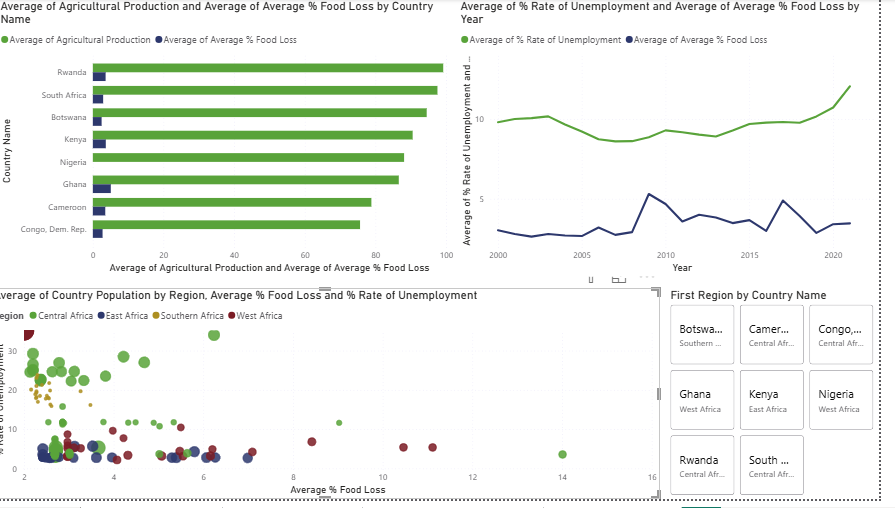

The page's visual inventory and layout, read from the dashboard file:
{"tool":"powerbi","page":{"name":"Employment Opportunity","canvas":[1280,720],"ordinal":2},"visuals":[{"type":"scatterChart","fields":{"Series":["Fact Table.Region"],"Size":["Avg(Fact Table.Country Population)"],"X":["Fact Table.Average % Food Loss"],"Y":["Fact Table.% Rate of Unemployment"]},"box":[0,437.7,963.5,282.3],"z":0},{"type":"clusteredBarChart","fields":{"Category":["Fact Table.Country Name"],"Y":["Avg(Fact Table.Agricultural Production)","Avg(Fact Table.Average % Food Loss)"]},"box":[10.5,62.7,661.7,374.9],"z":1000},{"type":"lineChart","fields":{"Category":["Fact Table.Year"],"Y":["Avg(Fact Table.% Rate of Unemployment)","Avg(Fact Table.Average % Food Loss)"]},"box":[672.2,62.7,608,374.9],"z":2000},{"type":"advancedSlicerVisual","fields":{"Label":["Min(Fact Table.Region)"],"Values":["Fact Table.Country Name"]},"box":[975.4,437.7,288.3,282.3],"z":3000},{"type":"textbox","box":[100.1,0,1020.2,62.7],"z":3001}]}

Visuals, with their boxes in screenshot pixels (x1, y1, x2, y2), scaled from the page's 1280x720 canvas onto the 895x508 screenshot:
scatterChart - Fact Table.Region x Avg(Fact Table.Country Population): [x1=0, y1=309, x2=674, y2=507]
clusteredBarChart - Fact Table.Country Name x Avg(Fact Table.Agricultural Production): [x1=7, y1=44, x2=470, y2=309]
lineChart - Fact Table.Year x Avg(Fact Table.% Rate of Unemployment): [x1=470, y1=44, x2=894, y2=309]
advancedSlicerVisual - Min(Fact Table.Region) x Fact Table.Country Name: [x1=682, y1=309, x2=884, y2=507]
textbox: [x1=70, y1=0, x2=783, y2=44]
